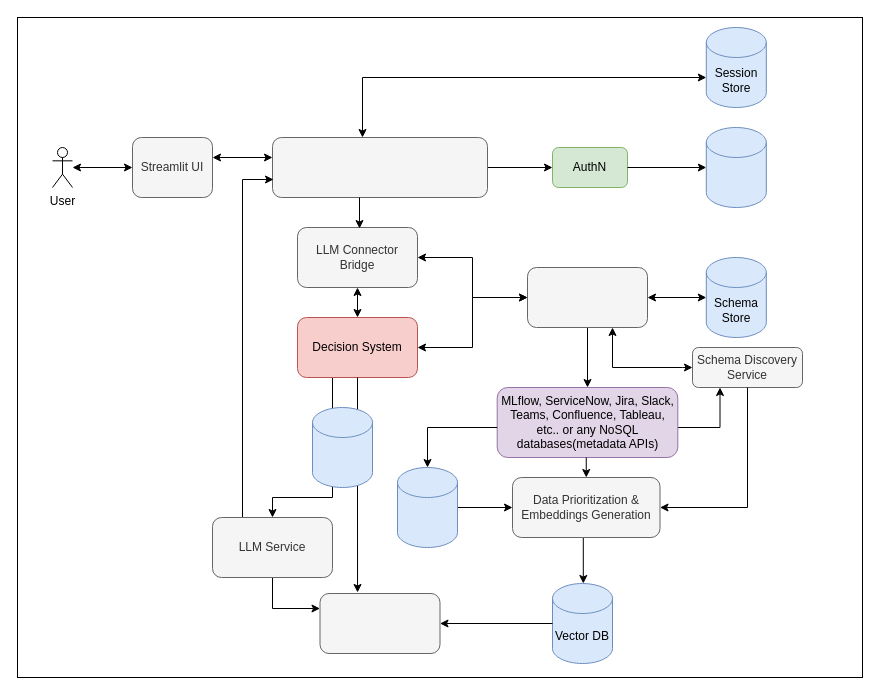
Image size: 880x695. Some labels were removed from this diagram. The shapes that lost their labels are listed below. From the top down, each one's box as (x1, y1, x2, y2) in pixels, then its label:
(272, 136, 488, 198): Prodizy Platform - Core Engine
(705, 126, 766, 208): Invitation Store
(526, 266, 648, 328): Connector Registry
(312, 406, 372, 488): Knowledge Cache
(396, 466, 458, 548): Execution Results Store
(319, 592, 440, 654): RAG Engine
